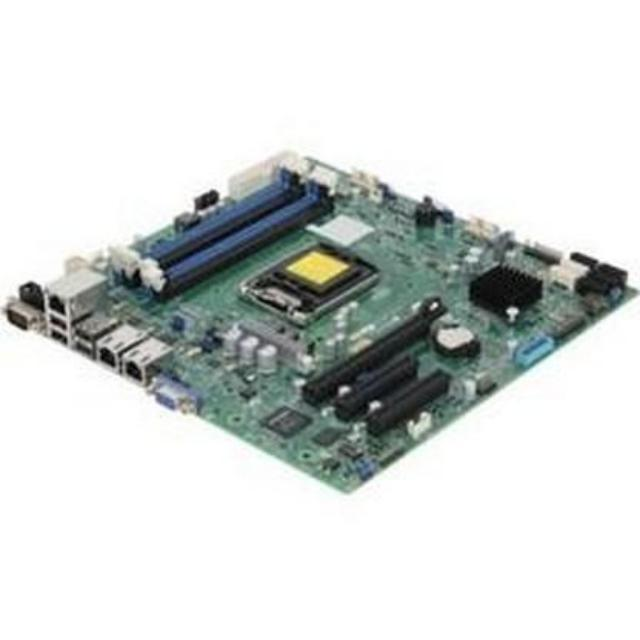Mainboard: (3, 153, 640, 502)
